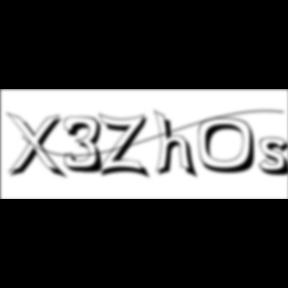3: (64, 116, 110, 176)
O: (198, 117, 262, 176)
X: (6, 112, 70, 182)
Z: (98, 112, 154, 181)
h: (154, 108, 202, 182)
